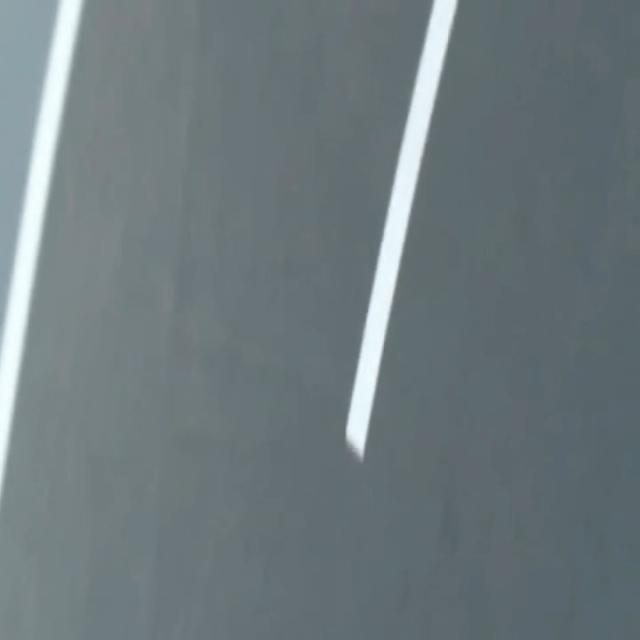center: (346, 0, 458, 458)
left: (0, 0, 83, 498)
